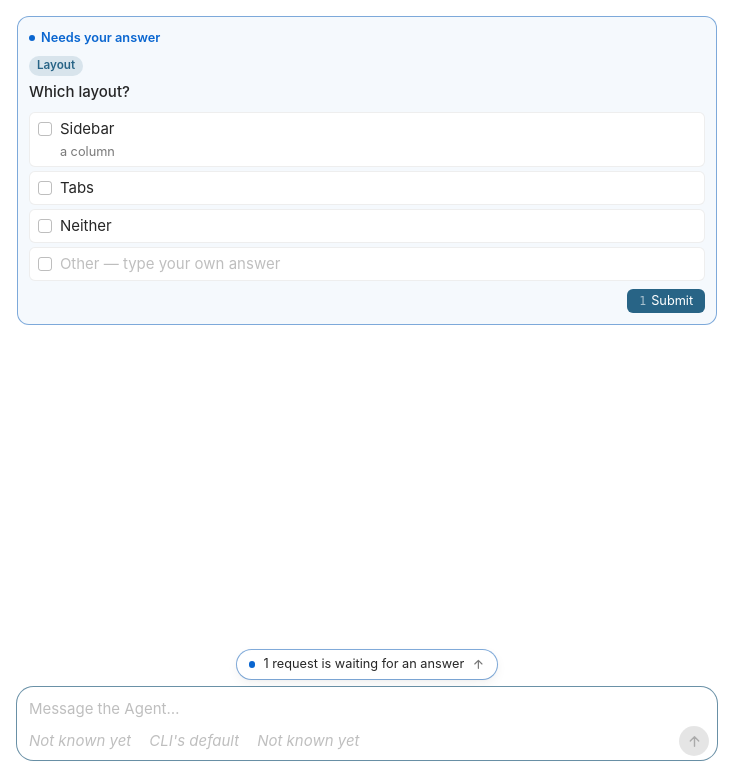
Test: a question whose options carry previews › draws its options as list rows, the picked ones checked, as a picker's selection
What coordinates should you click on to do the following:
click the checkbox labelled "Sidebar a column"
I would click on:
 (87, 128)
Its box is [29,112,705,167].
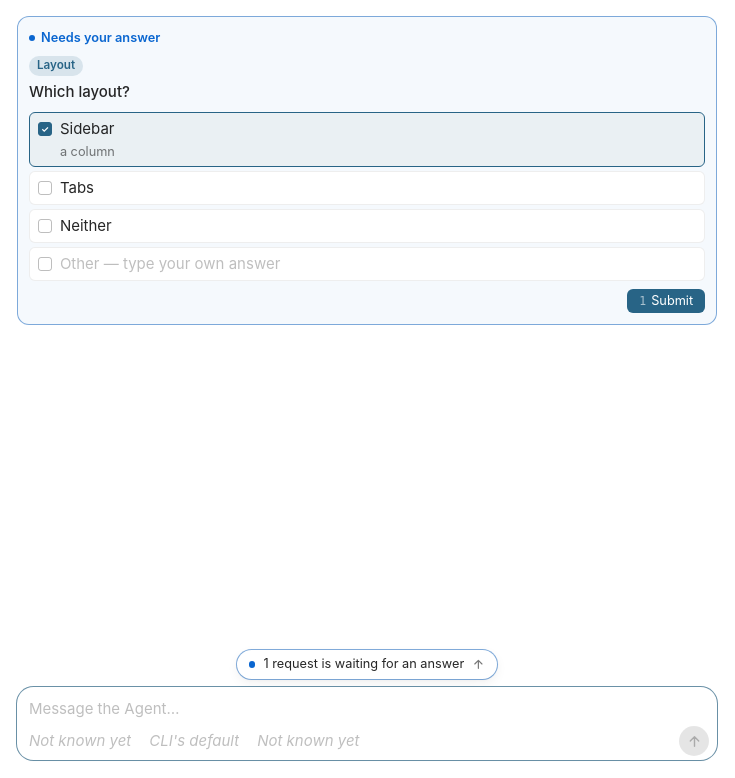
What coordinates should you click on to do the following:
click the checkbox labelled "Tabs"
I would click on:
 (77, 188)
Its box is [29,171,705,205].
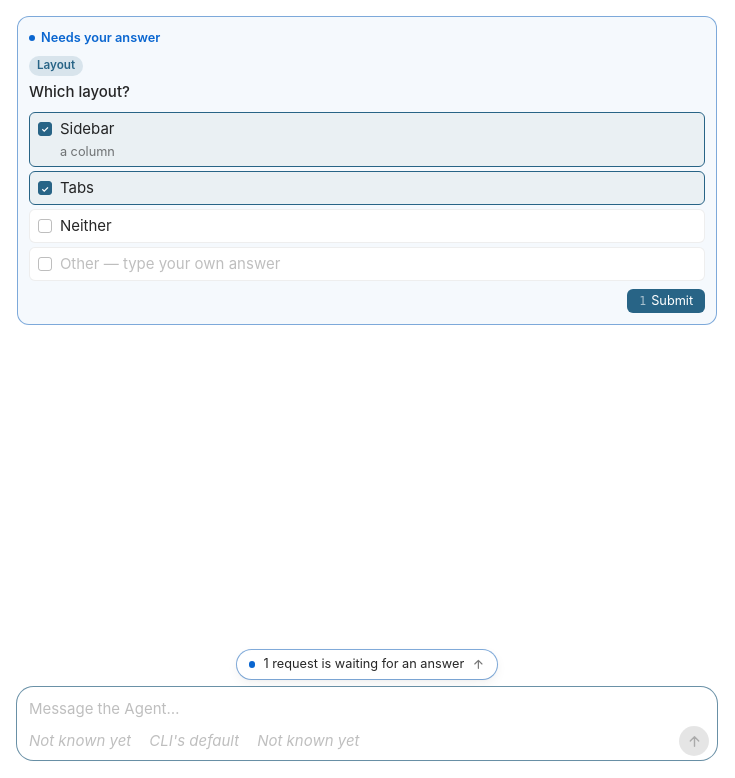
Check: the element with class "conversation-question-mark" next to "Neither" is empty, box [38,219,52,233]
Check: the text with class "conversation-question-mark" next to "Tabs" reads "✓", box [41,183,49,194]
